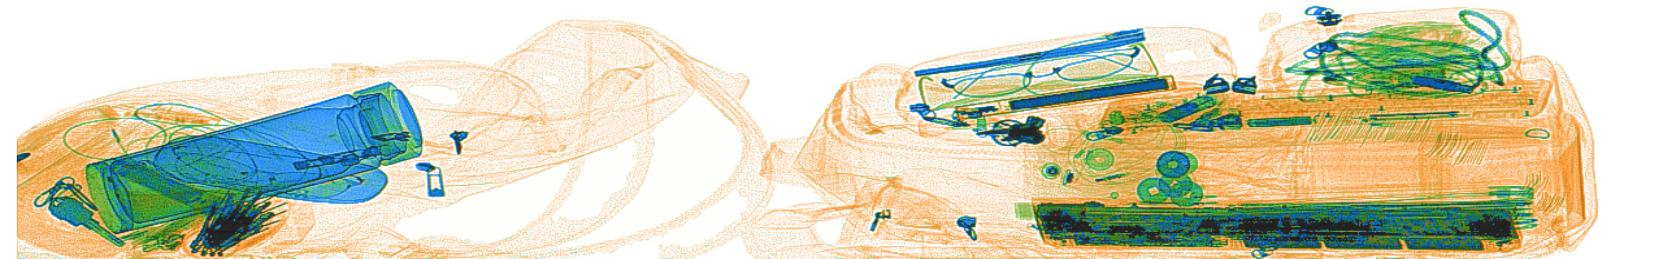battery: (117, 162, 199, 209), (1156, 93, 1216, 124), (1247, 115, 1313, 128)
